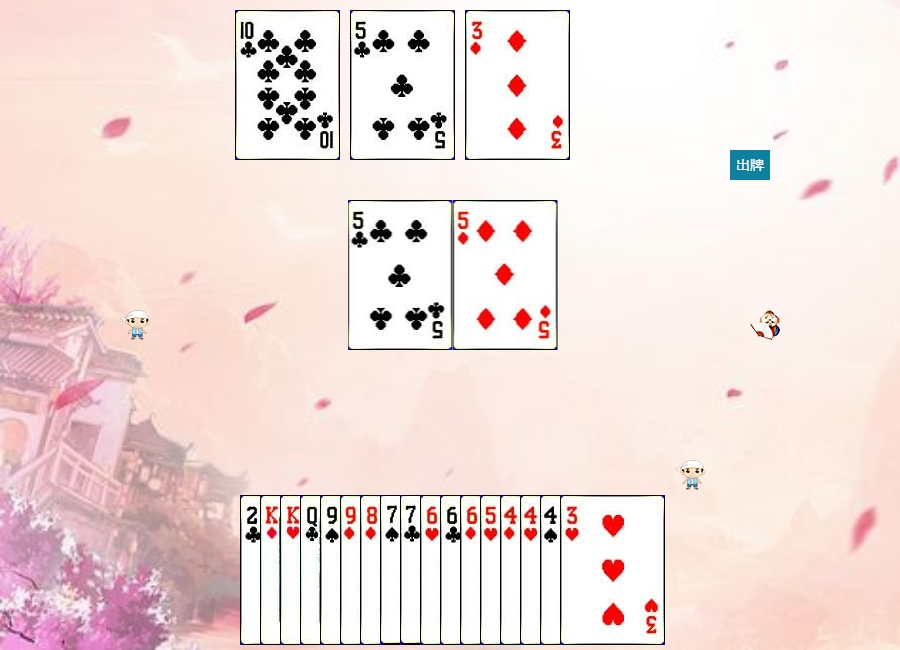10~2: (235, 10, 340, 160)
12~2: (300, 495, 405, 645)
13~1: (260, 495, 365, 645)
13~3: (280, 495, 385, 645)
15~2: (240, 495, 345, 645)
3~1: (465, 10, 570, 160)
3~3: (560, 495, 665, 645)
4~1: (500, 495, 605, 645)
4~3: (520, 495, 625, 645)
4~4: (540, 495, 645, 645)
5~1: (453, 200, 558, 350)
5~2: (350, 10, 455, 160), (348, 200, 453, 350)
5~3: (480, 495, 585, 645)
6~1: (460, 495, 565, 645)
6~2: (440, 495, 545, 645)
6~3: (420, 495, 525, 645)
7~2: (400, 495, 505, 645)
7~4: (380, 495, 485, 645)
8~1: (360, 495, 465, 645)
9~1: (340, 495, 445, 645)
9~4: (320, 495, 425, 645)
